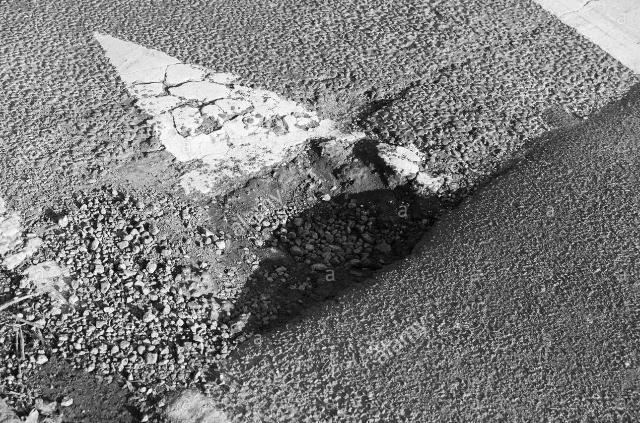Pothole: (0, 68, 460, 423)
